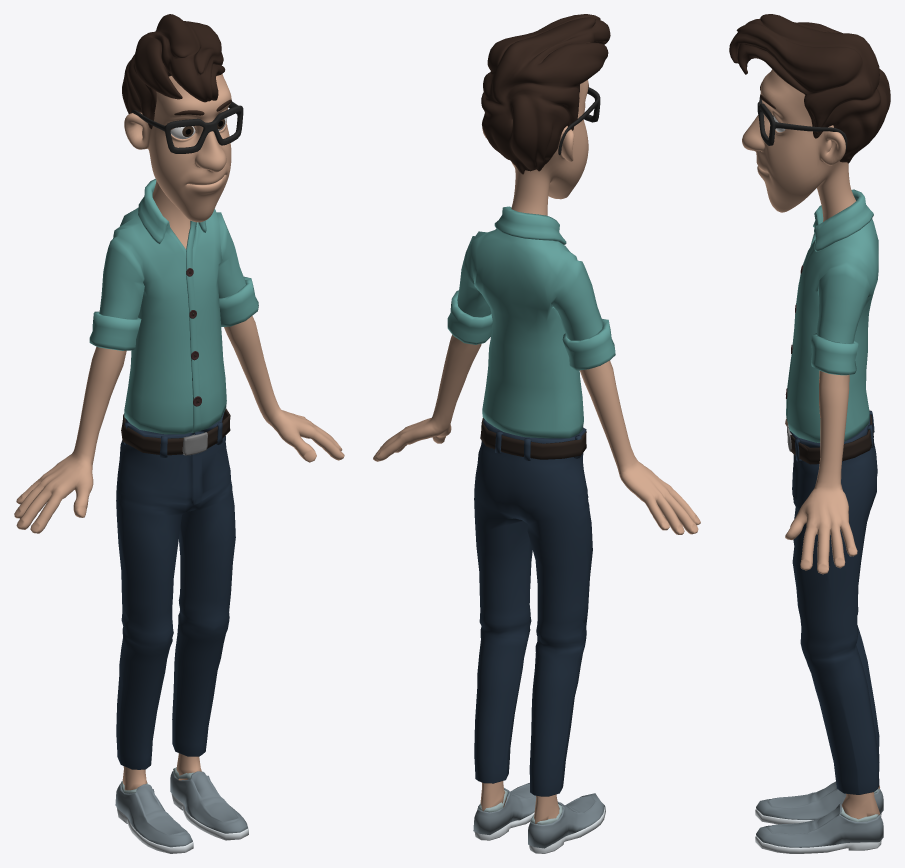
Rendered from teacher-wang.glb.
3 renders of one model, left to right at view 1: azimuth 30°, elevation 25°; view 2: azimuth 150°, elevation 25°; view 3: azimuth 270°, elevation 25°, orthographic.
Parts seen in each view (by area): view 1: GEO-vincent_body.001, GEO-vincent_head.001, GEO-vincent_hair.001, GEO-vincent_eyeglasses.001; view 2: GEO-vincent_body.001, GEO-vincent_hair.001, GEO-vincent_head.001; view 3: GEO-vincent_body.001, GEO-vincent_hair.001, GEO-vincent_head.001, GEO-vincent_eyeglasses.001.
Part boxes in pixels (x1,y1,x2,y2): GEO-vincent_body.001: (14,179,344,853); GEO-vincent_head.001: (124,74,231,249); GEO-vincent_hair.001: (122,14,225,129); GEO-vincent_eyeglasses.001: (131,101,243,153); GEO-vincent_body.001: (373,206,700,853); GEO-vincent_hair.001: (481,14,610,174); GEO-vincent_head.001: (482,80,588,215); GEO-vincent_body.001: (755,189,883,853); GEO-vincent_hair.001: (729,14,890,163); GEO-vincent_head.001: (742,69,855,221); GEO-vincent_eyeglasses.001: (757,94,847,150).
Size of what is drawn, in the model's own units: 0.7306 by 1.73 by 0.3145.
